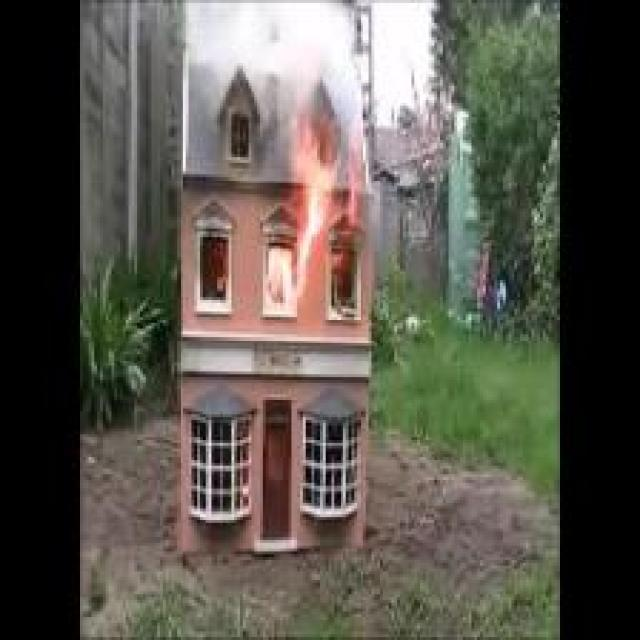Fire: (292, 110, 338, 302)
